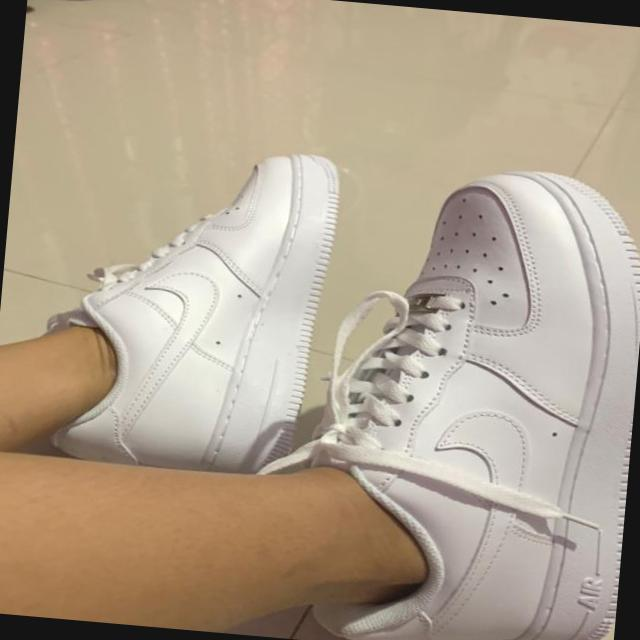nike_original_airforce: (249, 151, 640, 640), (42, 127, 364, 481)
